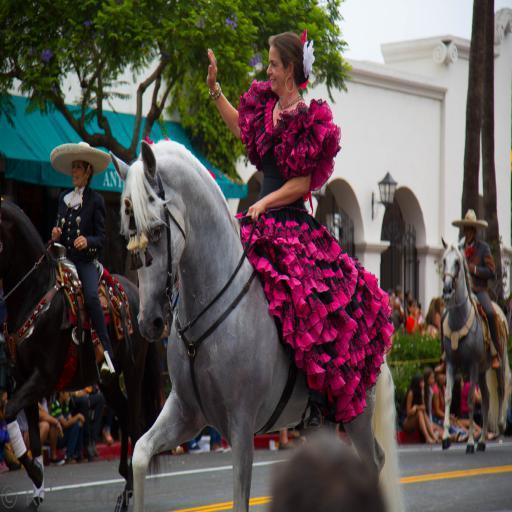horse: (109, 138, 405, 510), (0, 198, 171, 508), (440, 234, 512, 454)
